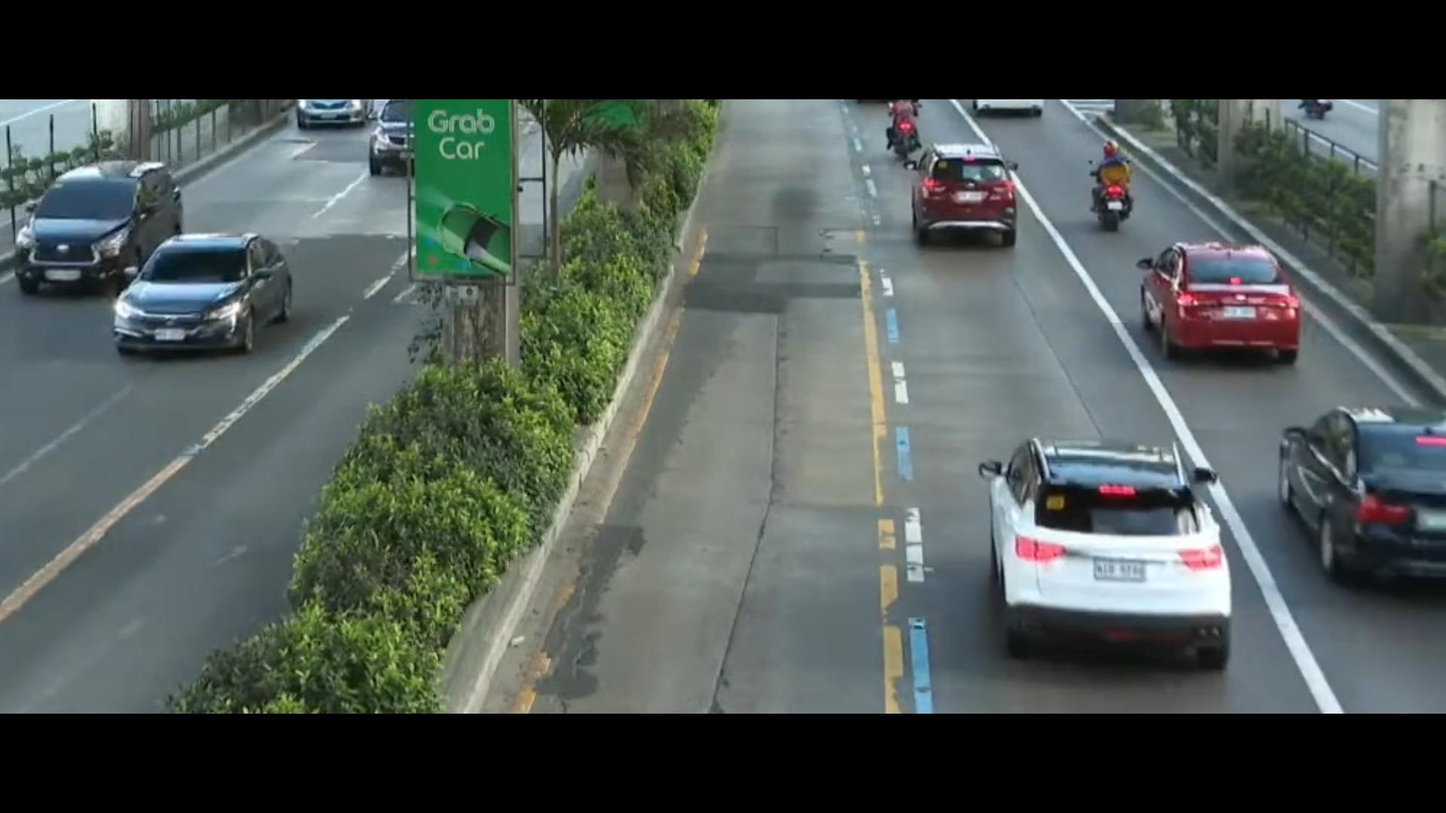Motorcycle: (1084, 123, 1148, 240), (861, 93, 934, 177)
